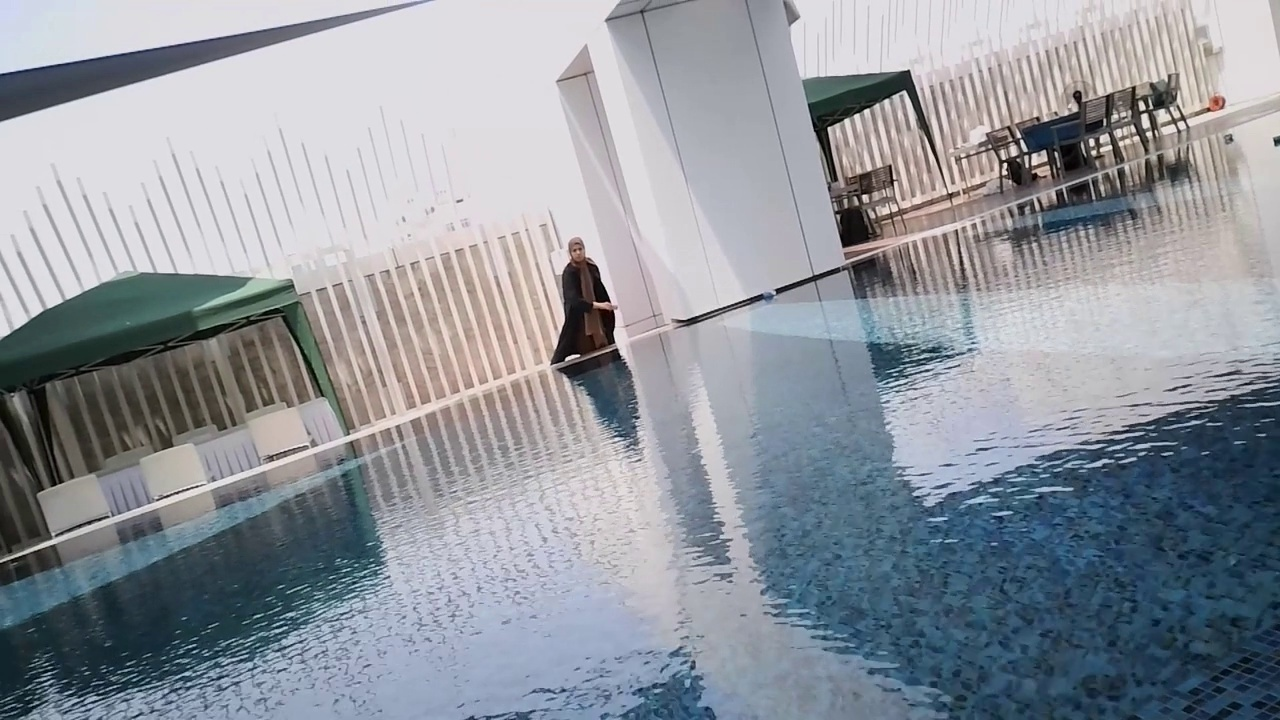debris: (1218, 131, 1237, 147), (758, 288, 778, 303), (1268, 134, 1280, 147), (606, 303, 618, 311)
